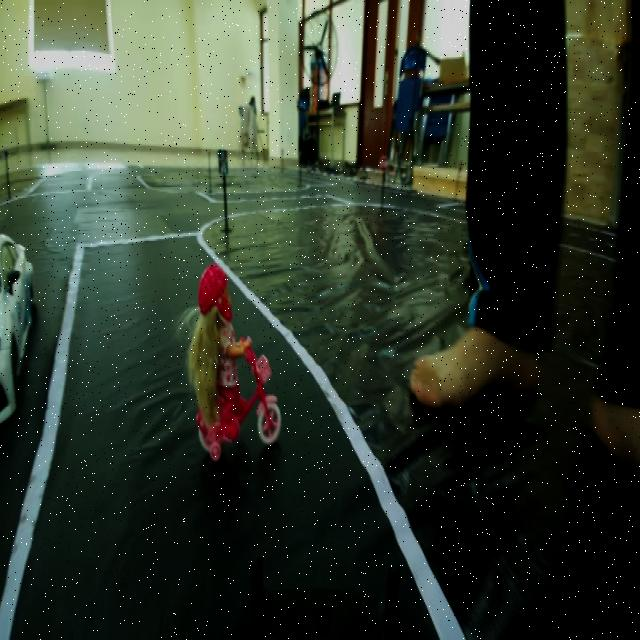pedestrian: (172, 253, 284, 460)
